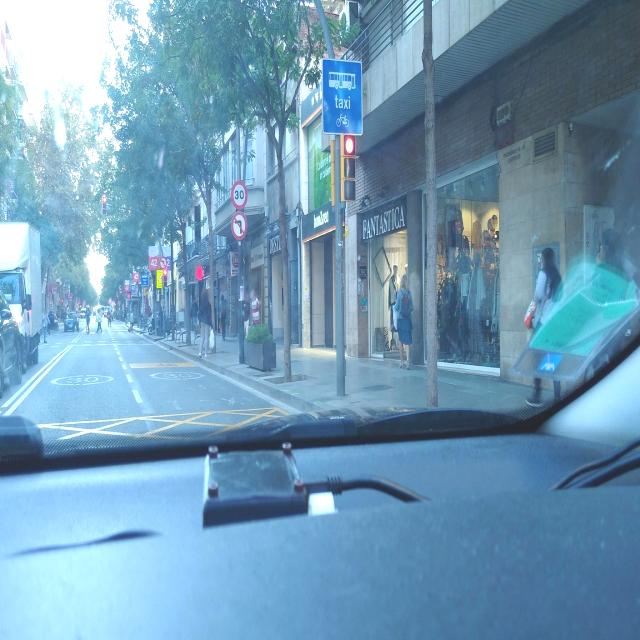car: (64, 310, 80, 332)
